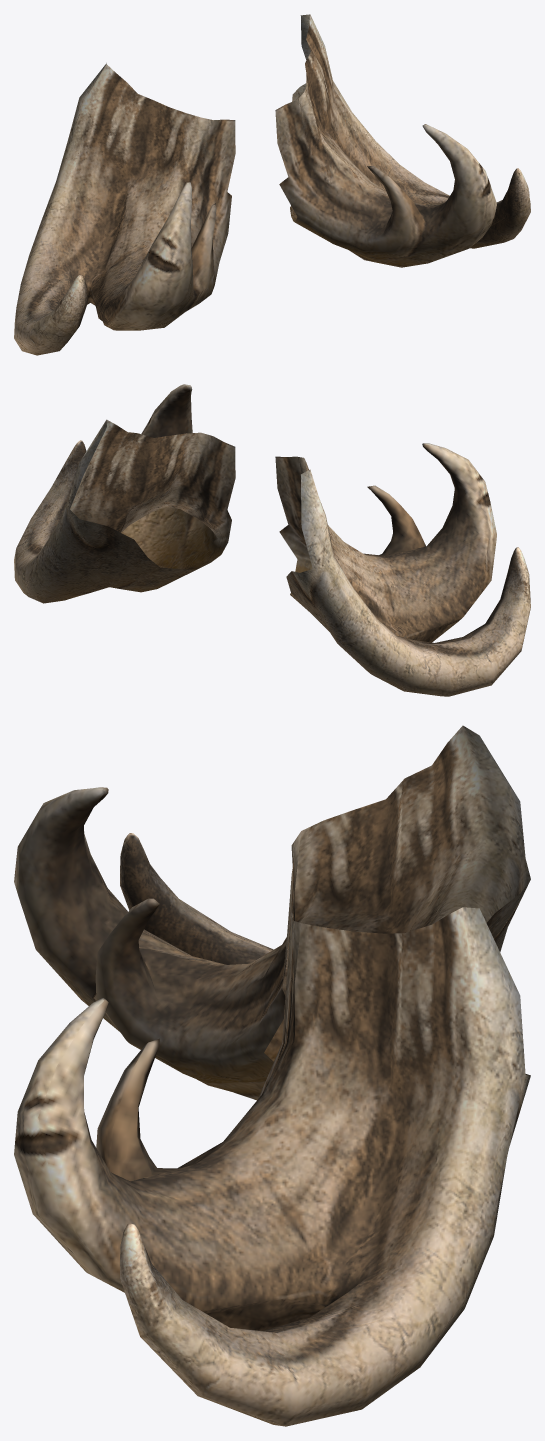
Rendered from sm_yun_tusk_03.gltf.
3 views of the same model, one above another, from view 1: azimuth 30°, elevation 25°; view 2: azimuth 150°, elevation 25°; view 3: azimuth 270°, elevation 25° (orthographic). The views are drawn at different scales.
Parts seen in each view (by area): view 1: sm_yun_tusk_03; view 2: sm_yun_tusk_03; view 3: sm_yun_tusk_03.
Boxes of the visible parts, <box> form: sm_yun_tusk_03: <box>14,14,530,355</box>; sm_yun_tusk_03: <box>14,384,530,696</box>; sm_yun_tusk_03: <box>14,725,530,1426</box>.
Bounding box in the file's own units: 38.09 × 16.68 × 18.91.
Materials: 1 (1 with a texture image).
